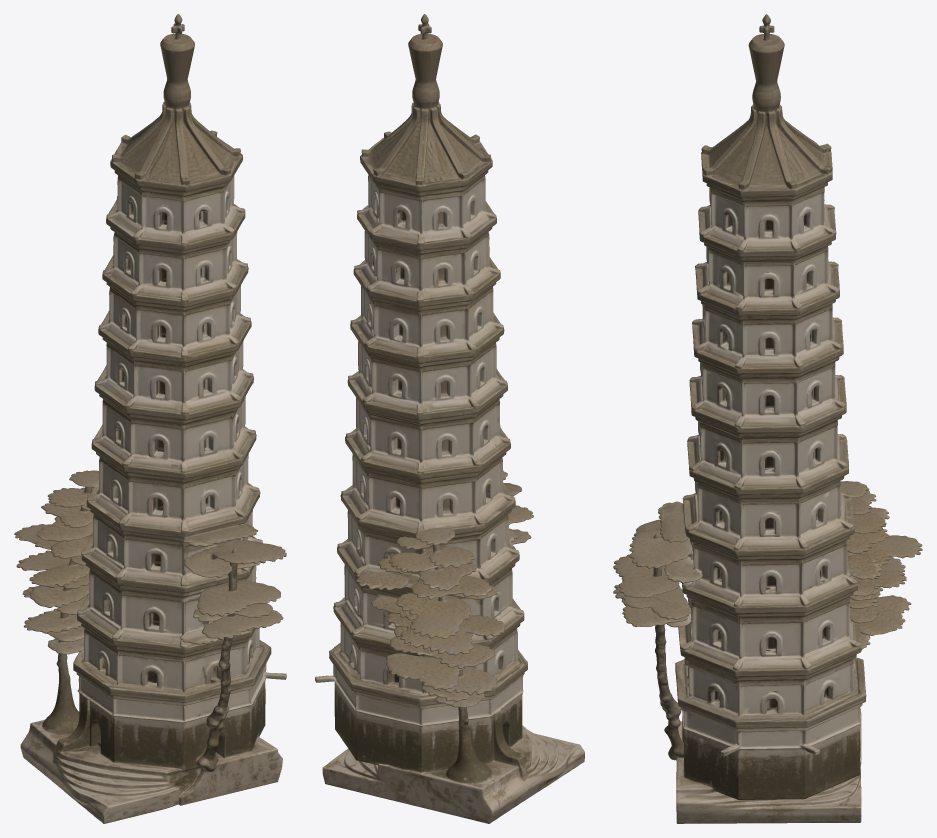
Rendered from 避暑山庄.glb.
3 views of the same model, side by side, from view 1: azimuth 30°, elevation 25°; view 2: azimuth 150°, elevation 25°; view 3: azimuth 270°, elevation 25° (orthographic). The views are drawn at different scales.
Parts seen in each view (by area): view 1: texture_pbr_v128; view 2: texture_pbr_v128; view 3: texture_pbr_v128.
Part boxes in pixels (left/top/right/bottom): texture_pbr_v128: left=14, top=14, right=286, bottom=823; texture_pbr_v128: left=315, top=14, right=584, bottom=823; texture_pbr_v128: left=613, top=14, right=922, bottom=823.
Size of the model in its own units: 0.1745 by 0.5998 by 0.2155.
Materials: 1 (1 with a texture image).
